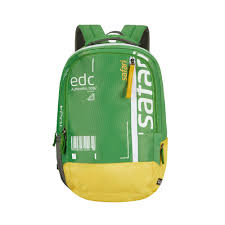backpack: (52, 23, 168, 202)
